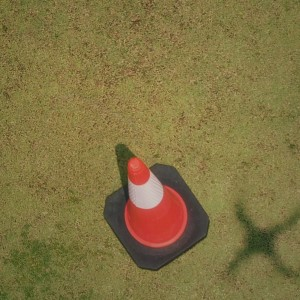traffic cone: (103, 157, 211, 270)
